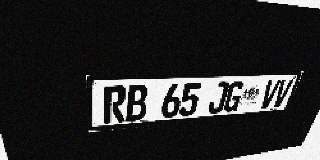5: (179, 83, 202, 117)
6: (160, 83, 184, 118)
B: (126, 85, 148, 122)
G: (222, 81, 246, 112)
J: (207, 82, 230, 114)
R: (103, 85, 126, 124)
V: (258, 80, 281, 109), (271, 79, 294, 108)
